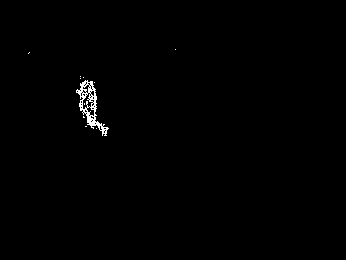person: (74, 75, 109, 137)
